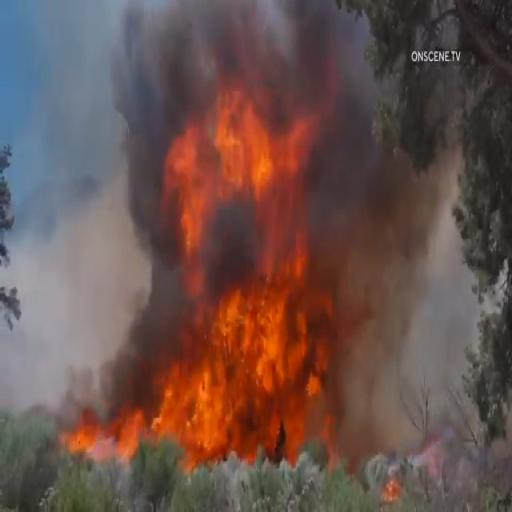fire: (172, 95, 340, 447), (70, 406, 148, 469)
smoke: (22, 215, 156, 376), (356, 151, 424, 402), (90, 1, 163, 197), (182, 6, 336, 78)
